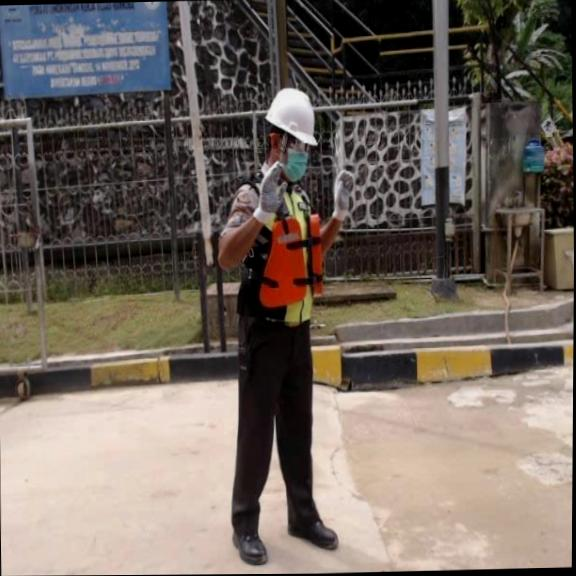safety_vest: (262, 214, 328, 309)
